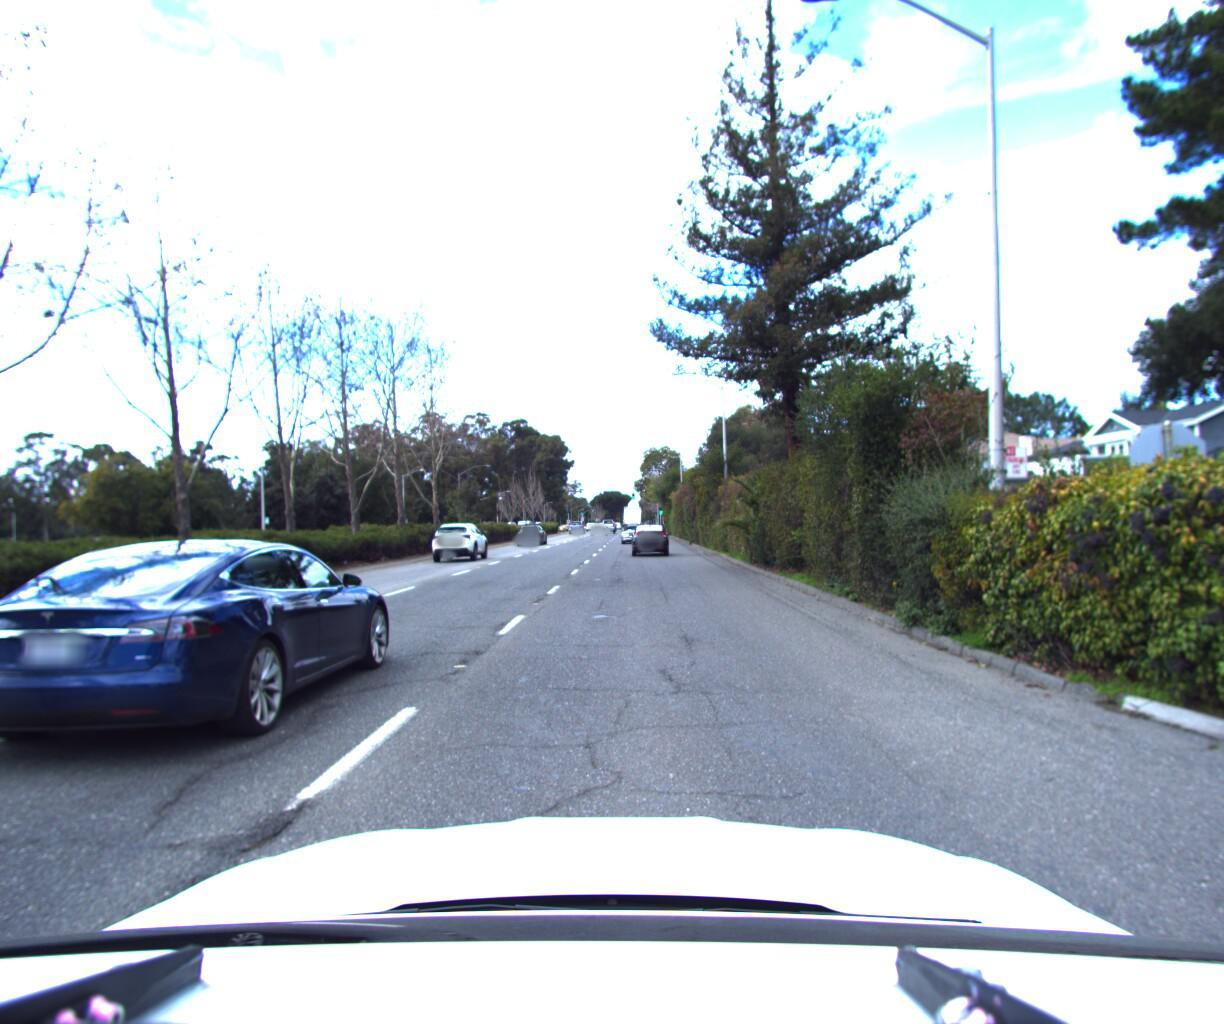car: (0, 531, 411, 780), (431, 518, 497, 563), (628, 521, 671, 557), (516, 519, 551, 546), (611, 520, 642, 545)
